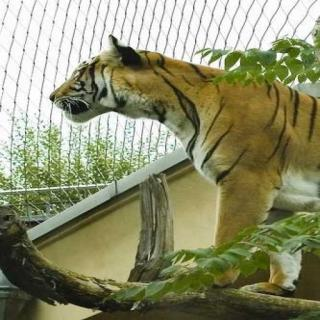Tiger: (39, 34, 320, 232)
